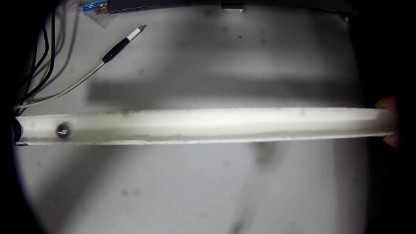gangzhu: (51, 121, 73, 139)
